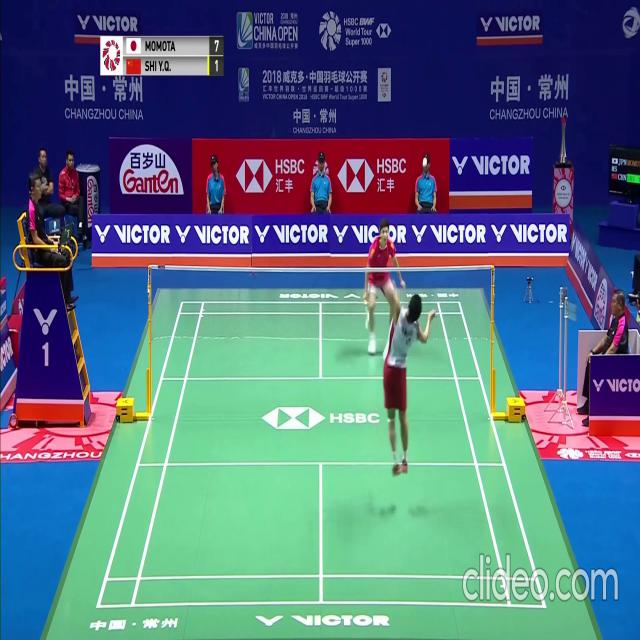Shuttlecock: (422, 158, 427, 166)
